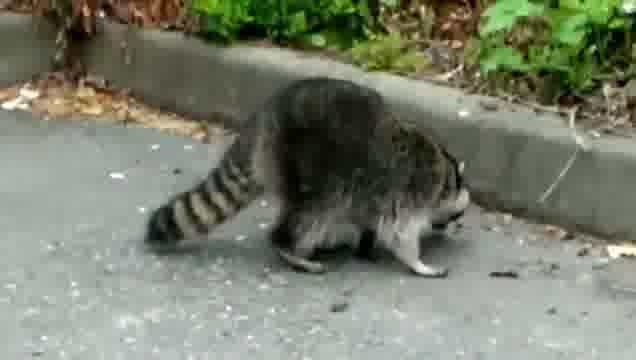raccoon: (148, 78, 471, 277)
